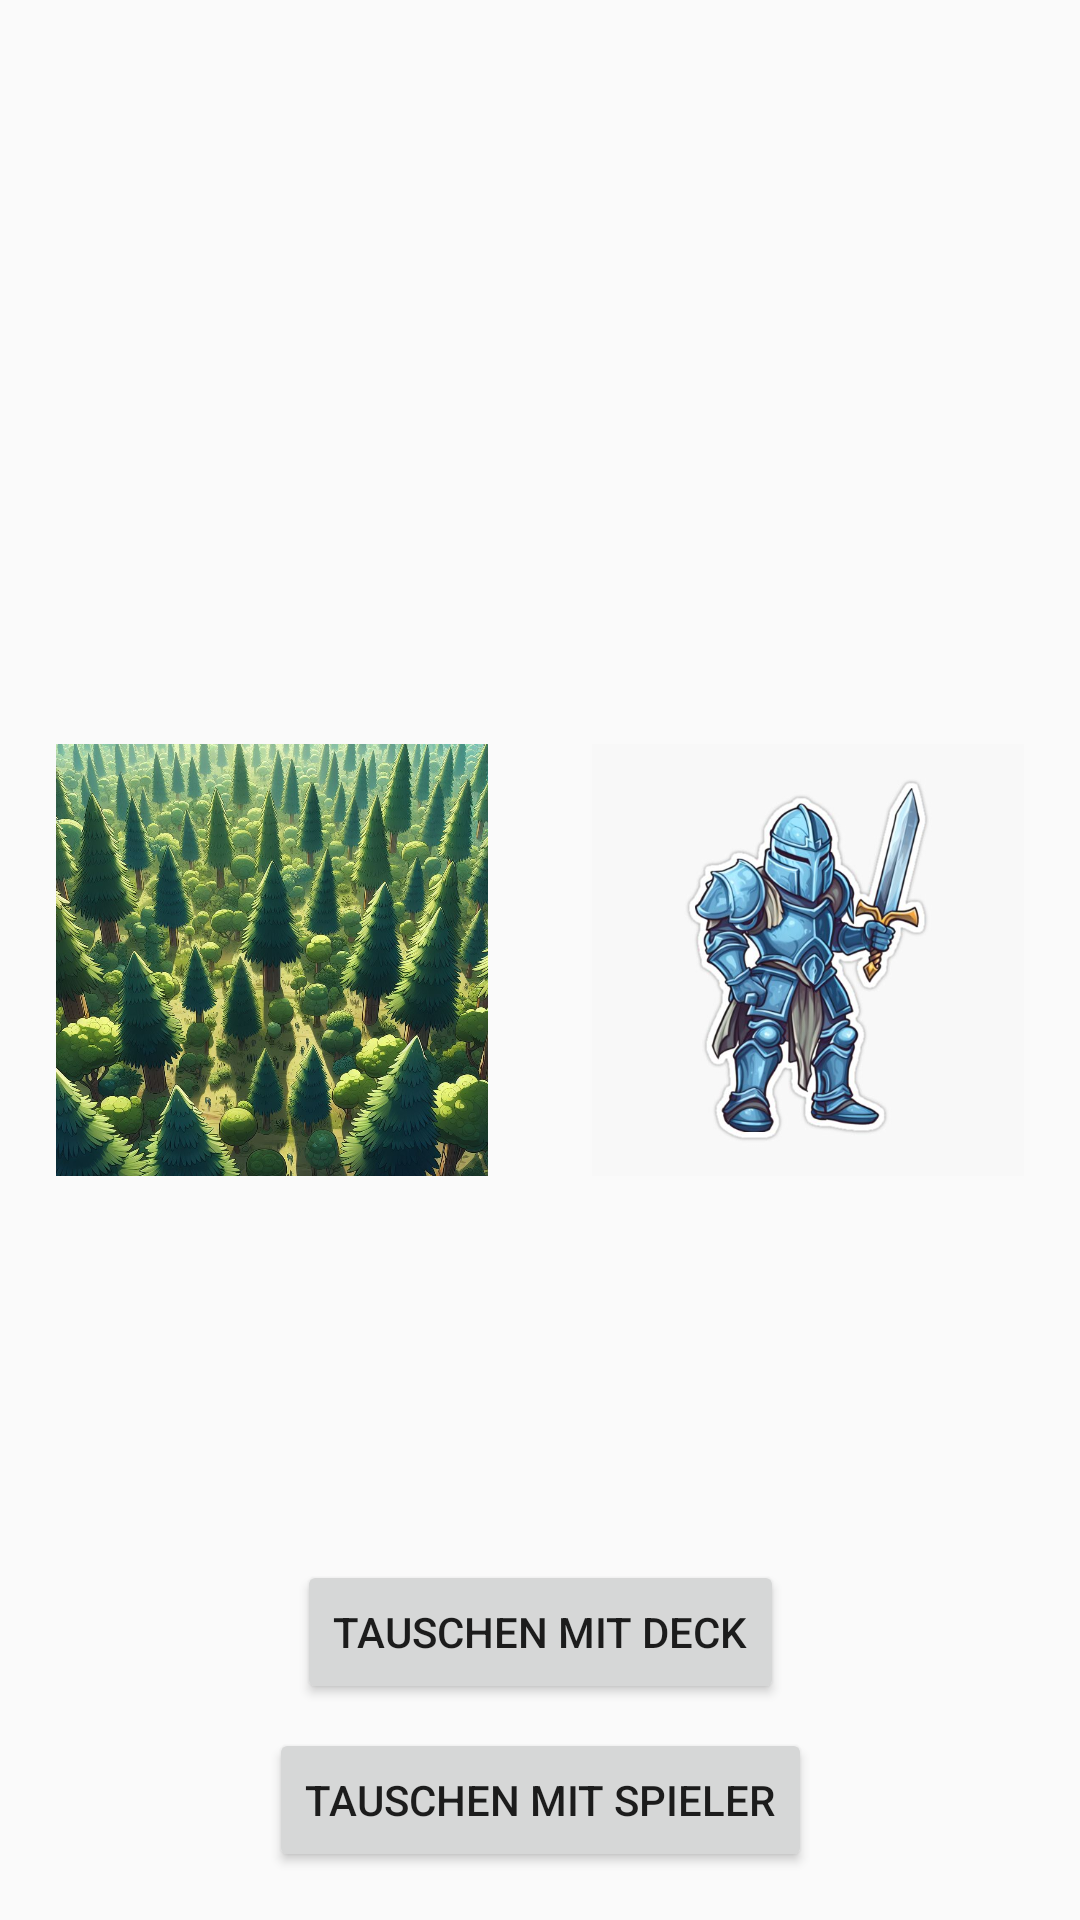

Named icons in this screenshot (1080x1920) and their bounding boxes, (x1, y1, x2, y2):
blauerritter: (688, 781, 927, 1140)
